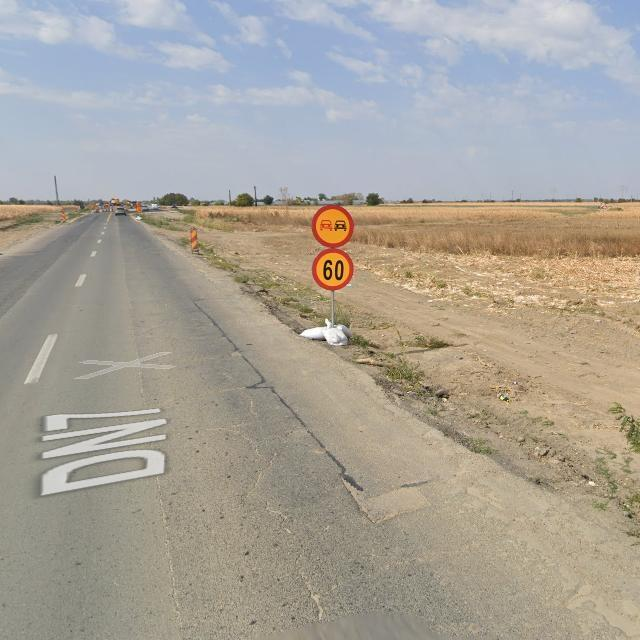forb_overtake: (312, 205, 354, 248)
forb_speed_over_60: (312, 249, 354, 291)
